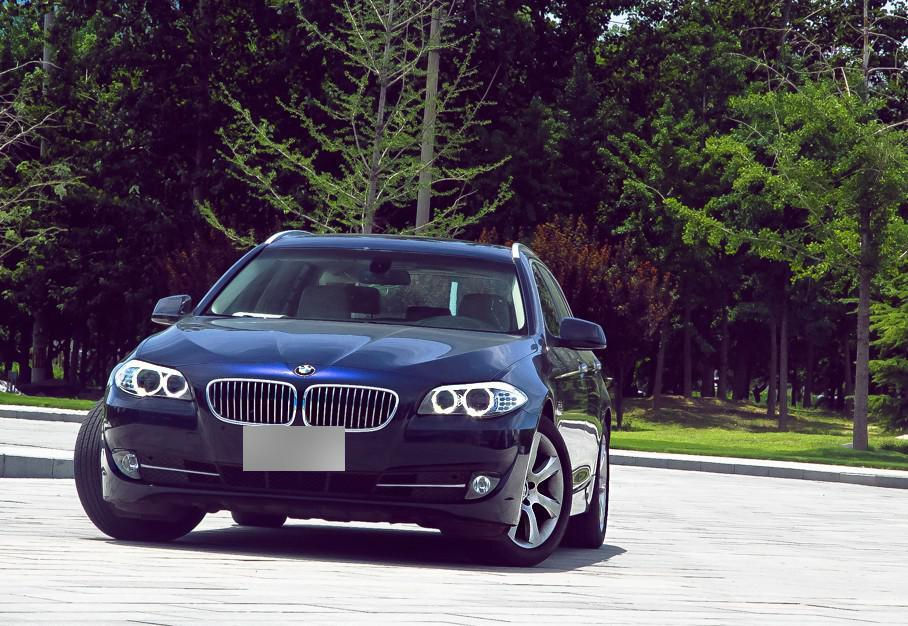Wagon: (73, 231, 610, 567)
